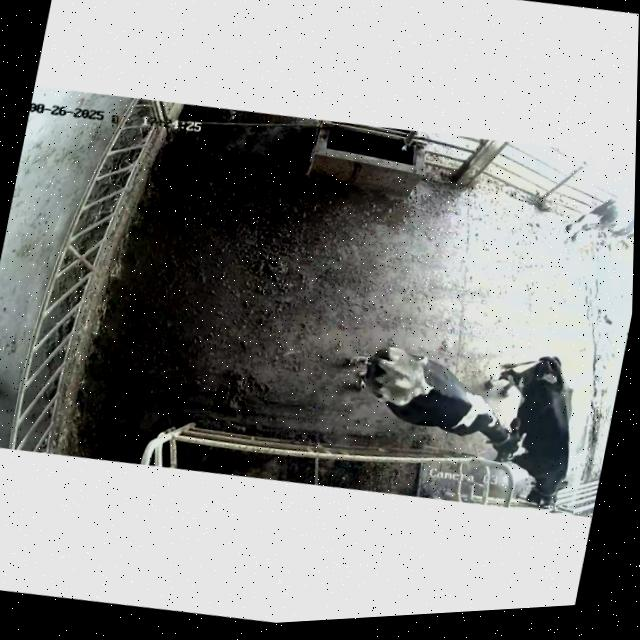stand: (321, 317, 546, 478), (463, 320, 595, 514)
